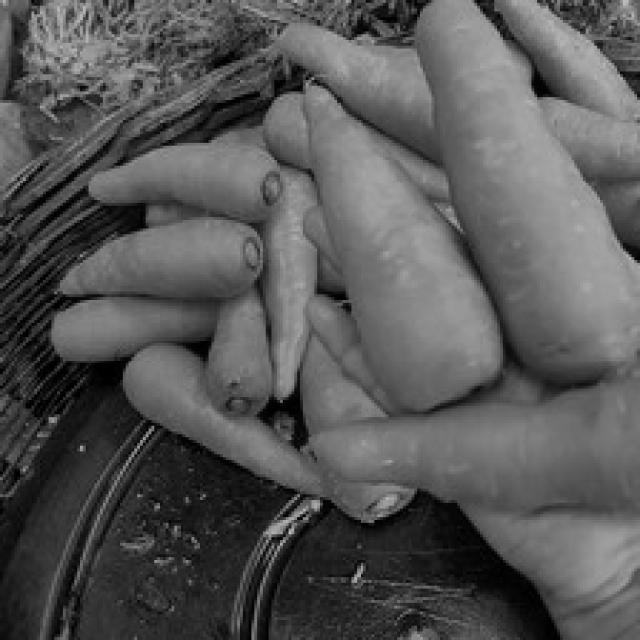Fresh_Carrot: (430, 0, 640, 380), (313, 73, 493, 432), (300, 388, 640, 512)
